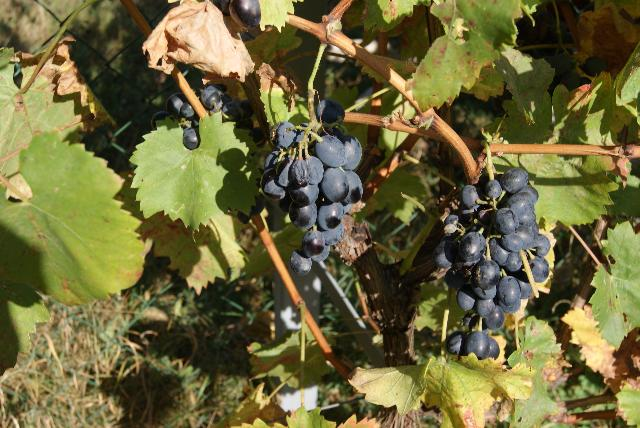grapes: (434, 168, 550, 360), (266, 99, 362, 275)
